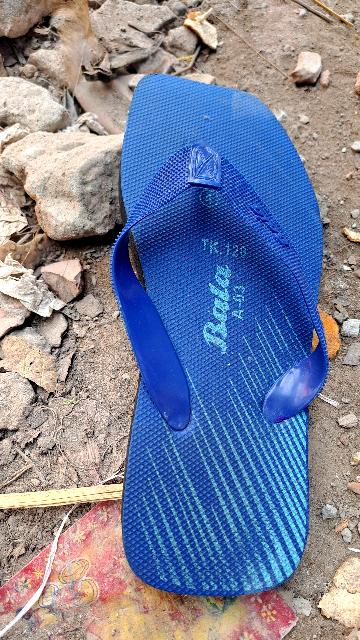sandal: (105, 61, 326, 591)
